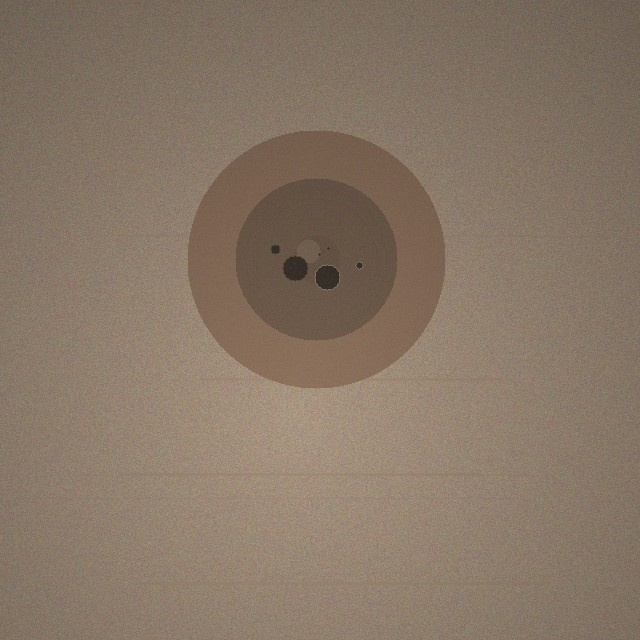shrinkage: (187, 130, 445, 388)
